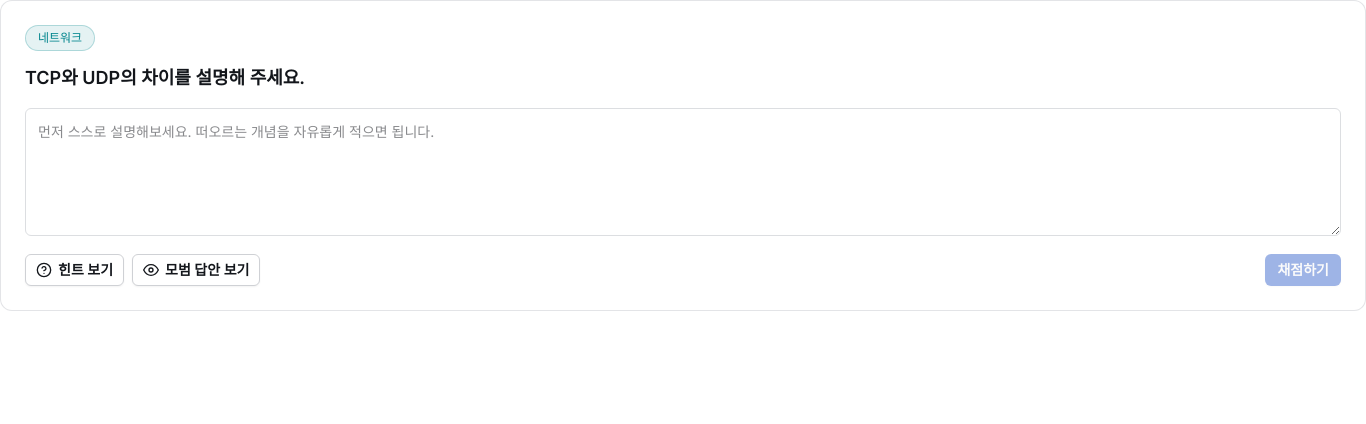
it: CsQuestionCard › 힌트를 열면 키워드 목록이 보이고 다시 누르면 접힌다
Click the button "힌트 보기".
click(75, 270)  # box [25,254,124,286]
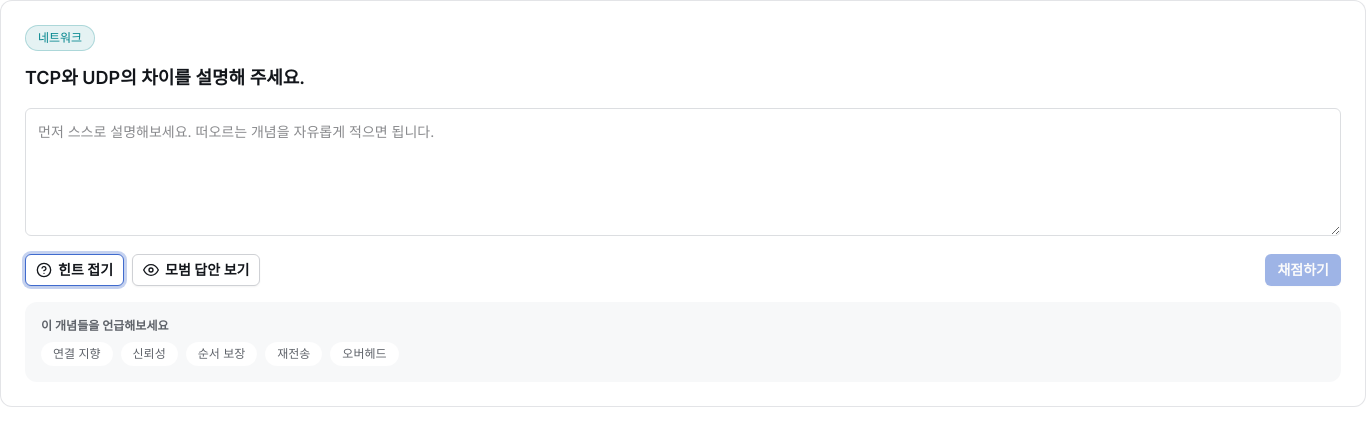
Expected: the text "이 개념들을 언급해보세요" is shown, [41,318,168,333]
Expected: the list item "연결 지향" is shown, [41,342,112,366]
Expected: the list item "신뢰성" is shown, [120,342,178,366]
Click the button "힌트 접기".
click(75, 270)  # box [25,254,124,286]
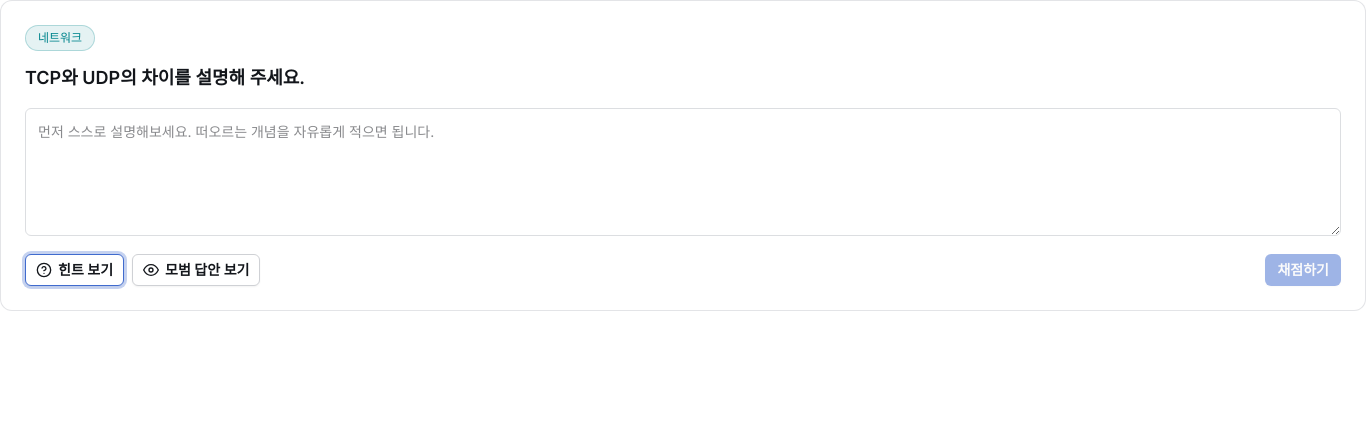
Expected: the text "이 개념들을 언급해보세요" is gone
